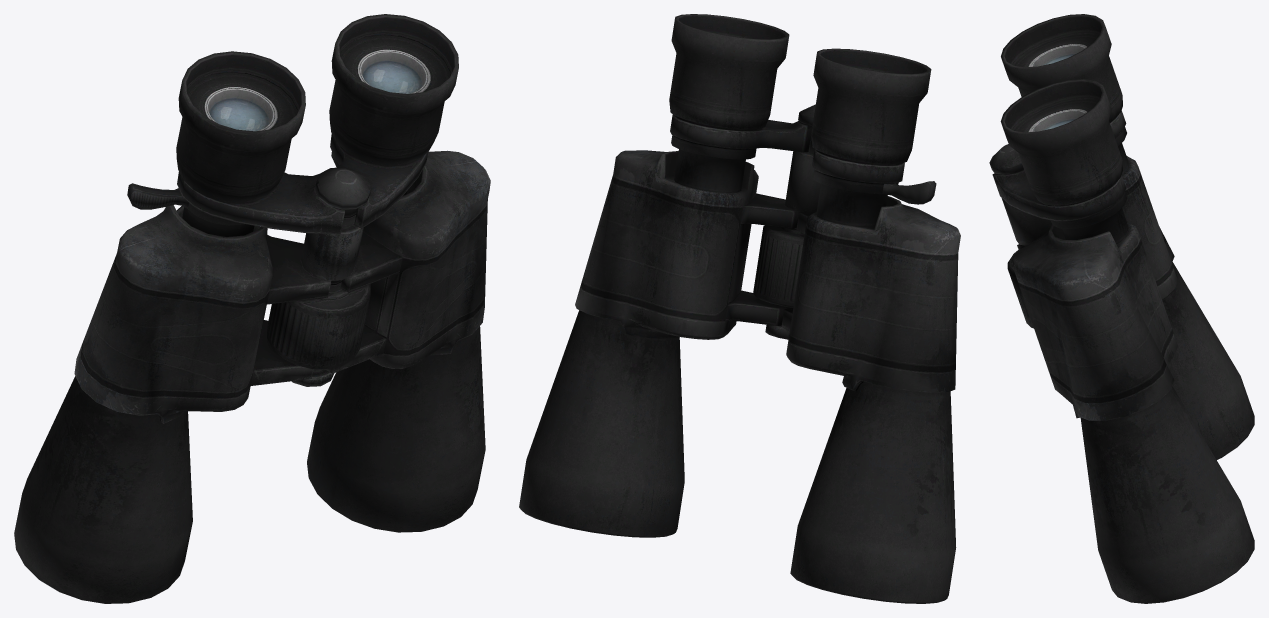
The model's file is Weapon_Binoculars_LOD0.glb.
The picture shows the model from 3 angles, left to right: view 1: azimuth 30°, elevation 25°; view 2: azimuth 150°, elevation 25°; view 3: azimuth 270°, elevation 25°; orthographic projection. The views are drawn at different scales.
Parts seen in each view (by area): view 1: Hoodie; view 2: Hoodie; view 3: Hoodie.
Boxes of the visible parts, bbox=[...] form: Hoodie: bbox=[14, 14, 490, 603]; Hoodie: bbox=[519, 14, 960, 603]; Hoodie: bbox=[989, 14, 1254, 603].
Bounding box in the file's own units: 0.1813 × 0.2088 × 0.1079.
Materials: 1 (1 with a texture image).
